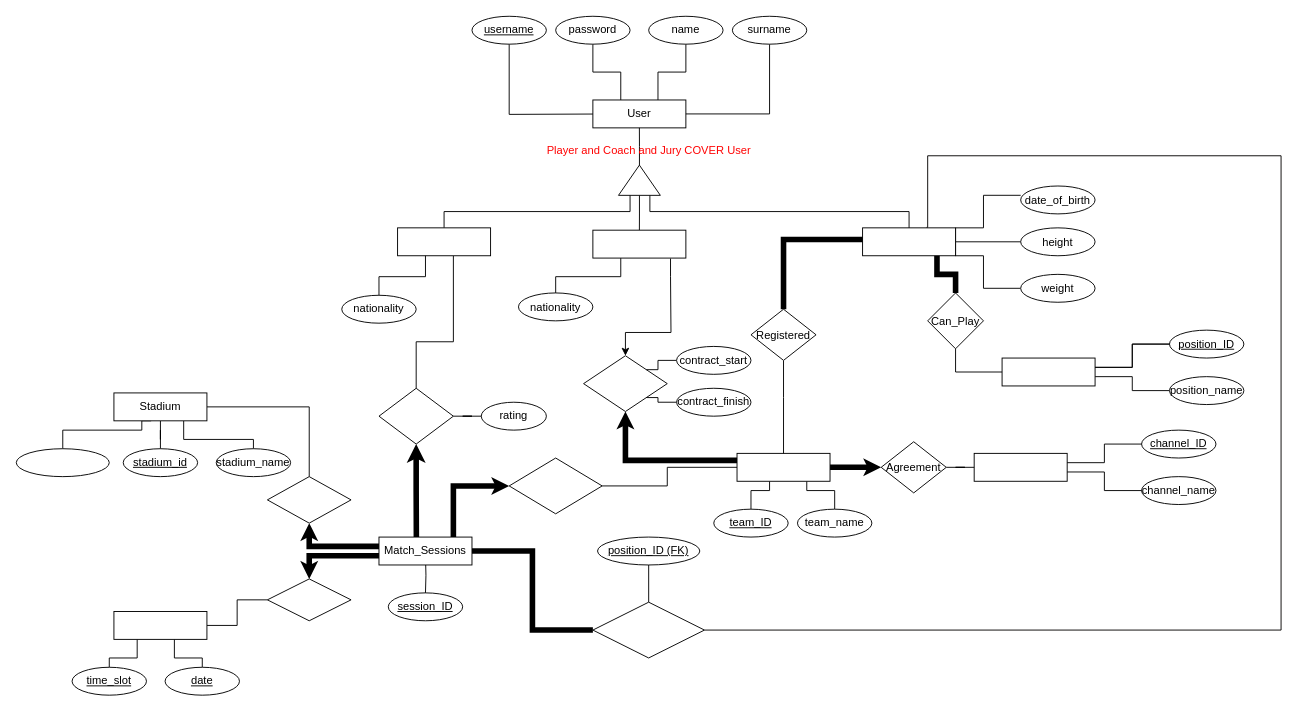
Image size: 1298x711. Some labels were removed from this diagram. Here are the shapes that lost their labels. From the top down, the box of each, then its label:
(618, 164, 660, 195): ISA
(397, 227, 491, 256): Jury
(592, 229, 686, 258): Coach
(862, 227, 956, 256): Player
(583, 355, 667, 412): In_Contract
(1001, 357, 1095, 386): Position
(378, 387, 453, 444): Rates
(15, 448, 109, 477): stadium_country
(736, 452, 830, 481): Team
(973, 452, 1067, 481): Channel
(266, 476, 351, 523): Location_Of
(508, 457, 602, 514): Team_Plays_In
(266, 578, 351, 621): Datetime_Of
(113, 611, 207, 639): Datetime
(592, 601, 704, 658): Player_Plays_In
